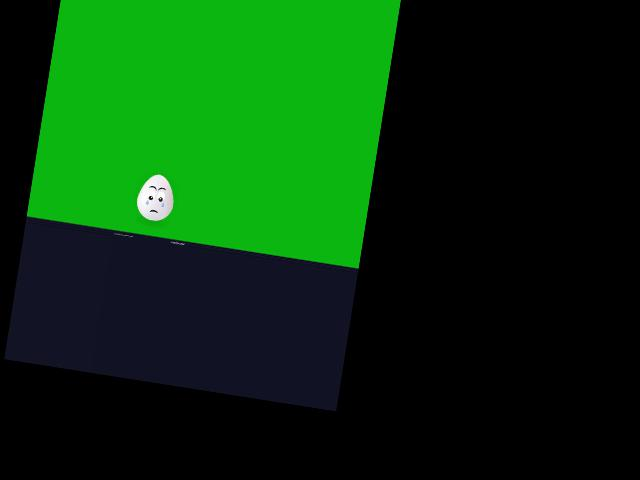egg: (134, 172, 177, 223)
